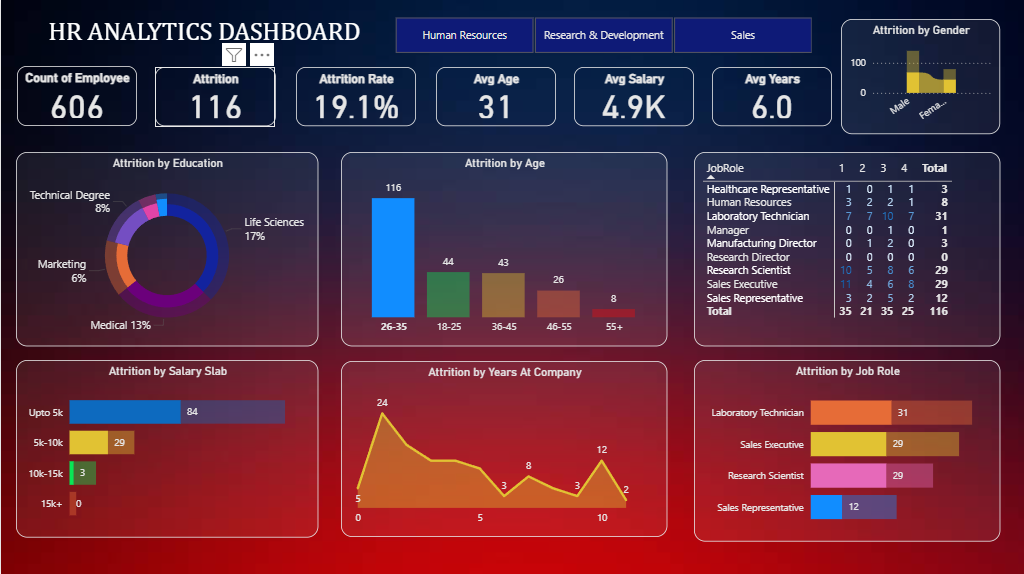

Layout of this report page (visuals, bound fields, positions):
{"tool":"powerbi","page":{"name":"Page 1","canvas":[1280,720],"ordinal":0},"visuals":[{"type":"card","title":"Count of Employee","fields":{"Values":["CountNonNull(HR_Analytics.EmpID)"]},"box":[19.8,84.2,149.8,74.9],"z":0},{"type":"card","title":"Attrition","fields":{"Values":["Sum(HR_Analytics.AttritionCount)"]},"box":[192.3,85.5,150.6,74.3],"z":1000},{"type":"card","title":"Attrition Rate","fields":{"Values":["HR_Analytics.AttritionRate"]},"box":[369.3,85.5,149.6,74.3],"z":2000},{"type":"card","title":"Avg Age","fields":{"Values":["Avg(HR_Analytics.Age)"]},"box":[544.4,85.5,149.6,74.3],"z":3000},{"type":"card","title":"Avg Salary","fields":{"Values":["Avg(HR_Analytics.MonthlyIncome)"]},"box":[716.3,85.5,149.6,74.3],"z":4000},{"type":"card","title":"Avg Years","fields":{"Values":["Avg(HR_Analytics.YearsAtCompany)"]},"box":[888.3,85.5,149.6,74.3],"z":5000},{"type":"donutChart","title":"Attrition by Education","fields":{"Category":["HR_Analytics.EducationField"],"Y":["Sum(HR_Analytics.AttritionCount)"]},"box":[18.8,191.4,377.5,242.6],"z":6000},{"type":"columnChart","title":"Attrition by Age","fields":{"Category":["HR_Analytics.AgeGroup"],"Y":["Sum(HR_Analytics.AttritionCount)"]},"box":[425.6,191.4,407.8,242.6],"z":7000},{"type":"pivotTable","fields":{"Rows":["HR_Analytics.JobRole"],"Columns":["HR_Analytics.JobSatisfaction"],"Values":["Sum(HR_Analytics.AttritionCount)"]},"box":[865.9,191.4,382.7,242.6],"z":8000},{"type":"barChart","title":"Attrition by Salary Slab","fields":{"Category":["HR_Analytics.SalarySlab"],"Y":["Sum(HR_Analytics.AttritionCount)"]},"box":[18.8,450.7,377.5,221.7],"z":9000},{"type":"barChart","title":"Attrition by Job Role","fields":{"Category":["HR_Analytics.JobRole"],"Y":["Sum(HR_Analytics.AttritionCount)"]},"box":[865.9,450.7,382.7,226.9],"z":10000},{"type":"areaChart","title":"Attrition by Years At Company","fields":{"Category":["HR_Analytics.YearsAtCompany"],"Y":["Sum(HR_Analytics.AttritionCount)"]},"box":[425.6,452.8,407.8,219.6],"z":11000},{"type":"ribbonChart","title":"Attrition by Gender","fields":{"Category":["HR_Analytics.Gender"],"Y":["Sum(HR_Analytics.AttritionCount)"]},"box":[1049.9,25.1,198.7,144.3],"z":12000},{"type":"slicer","fields":{"Values":["HR_Analytics.Department"]},"box":[467.5,15.7,569.9,57.5],"z":12001},{"type":"textbox","box":[18.8,15.7,477.9,50.2],"z":12002}]}

Visuals, with their boxes in screenshot pixels (x1, y1, x2, y2), scaled from the page's 1280x720 canvas onto the 1024x574 screenshot:
"Count of Employee" card: [16, 67, 136, 127]
"Attrition" card: [154, 68, 274, 127]
"Attrition Rate" card: [295, 68, 415, 127]
"Avg Age" card: [436, 68, 555, 127]
"Avg Salary" card: [573, 68, 693, 127]
"Avg Years" card: [711, 68, 830, 127]
"Attrition by Education" donutChart: [15, 153, 317, 346]
"Attrition by Age" columnChart: [340, 153, 667, 346]
pivotTable - HR_Analytics.JobRole x HR_Analytics.JobSatisfaction: [693, 153, 999, 346]
"Attrition by Salary Slab" barChart: [15, 359, 317, 536]
"Attrition by Job Role" barChart: [693, 359, 999, 540]
"Attrition by Years At Company" areaChart: [340, 361, 667, 536]
"Attrition by Gender" ribbonChart: [840, 20, 999, 135]
slicer - HR_Analytics.Department: [374, 13, 830, 58]
textbox: [15, 13, 397, 53]
